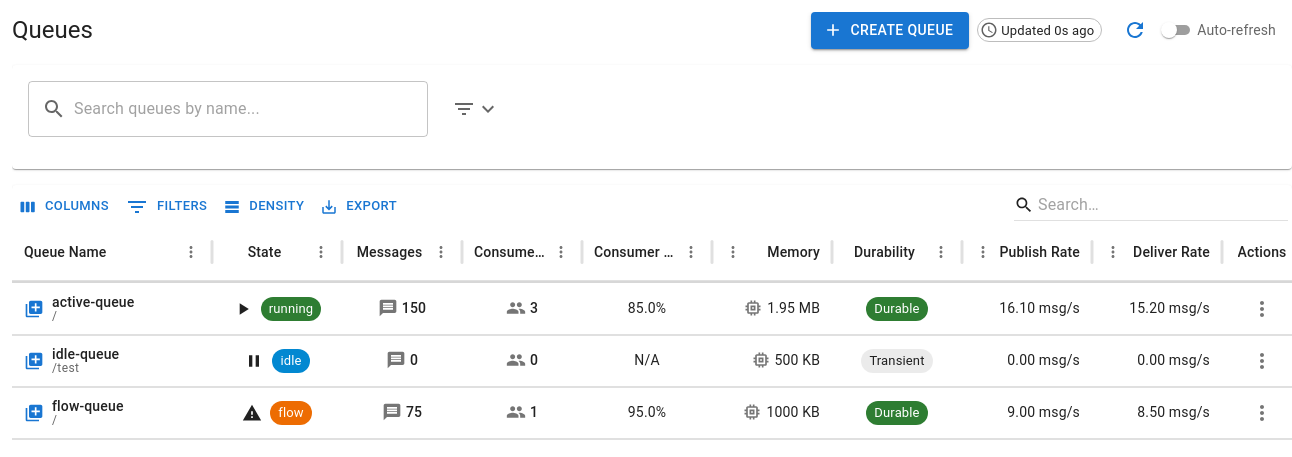
QueuesList › shows clear filters button when search term is entered
The image size is (1292, 457).
# Type in search input
Type "test" into the field with placeholder "Search queues by name..." at (251, 108), box [74, 80, 428, 136]
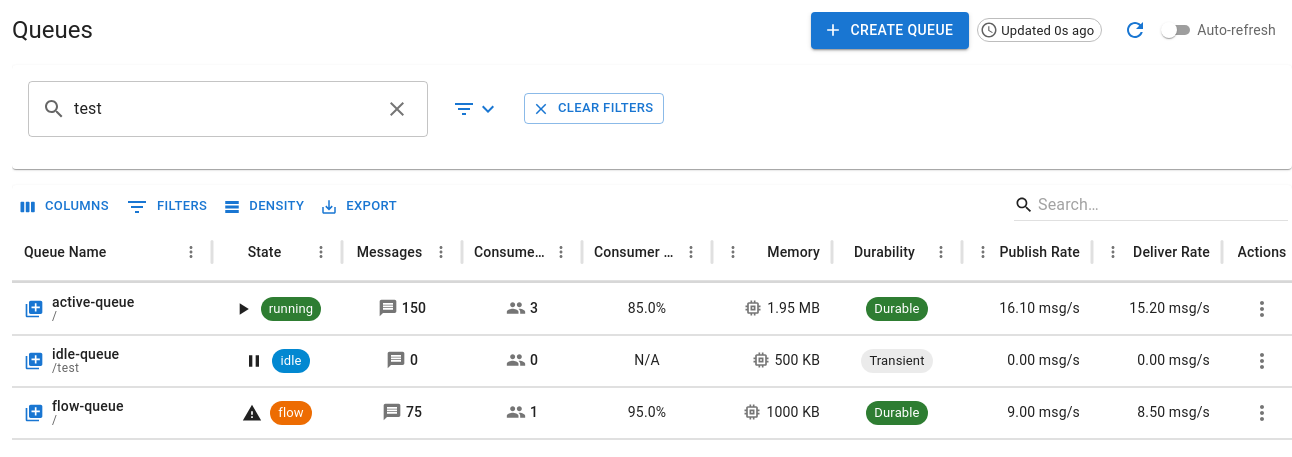
Now the button "Clear Filters" is shown, box [524, 93, 664, 124]
